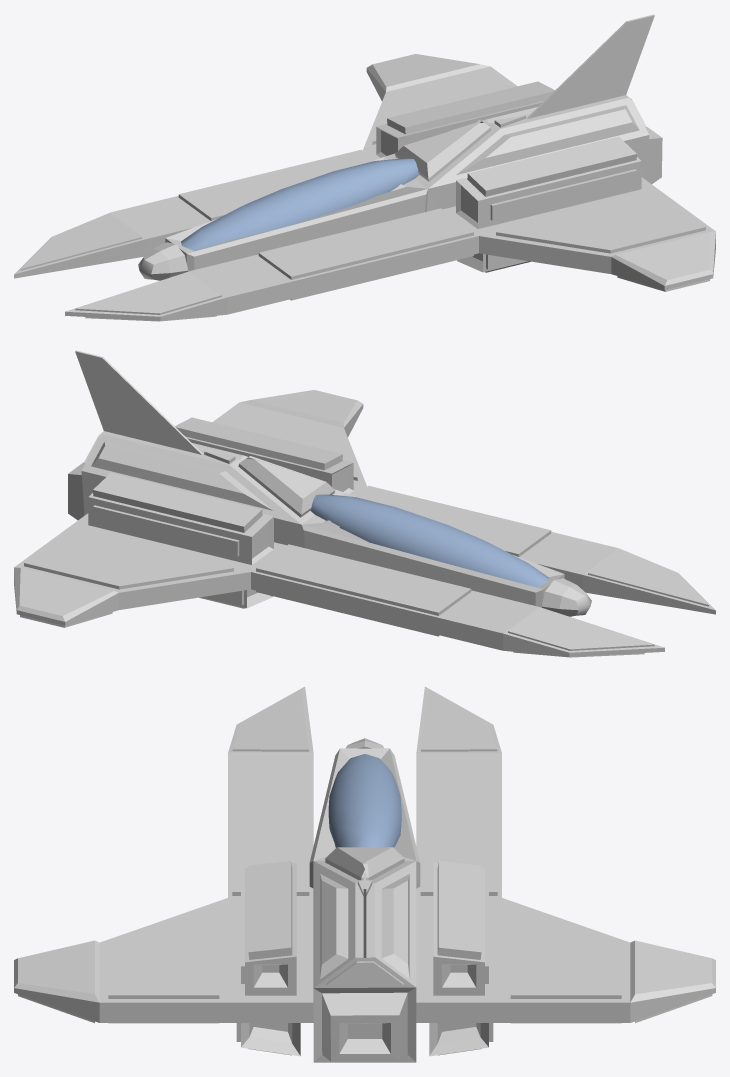
File: vicViper02.FBX
The picture shows the model from 3 angles, top to bottom: view 1: azimuth 30°, elevation 25°; view 2: azimuth 150°, elevation 25°; view 3: azimuth 270°, elevation 25°; orthographic projection. The views are drawn at different scales.
Parts seen in each view (by area): view 1: Box01, Sphere01; view 2: Box01, Sphere01; view 3: Box01, Sphere01.
Boxes of the visible parts, x1,y1,x2,y2 form: Box01: (14, 14, 715, 321); Sphere01: (181, 158, 419, 250); Box01: (14, 350, 715, 657); Sphere01: (310, 494, 548, 586); Box01: (14, 686, 715, 1062); Sphere01: (328, 754, 401, 847).
Bounding box in the file's own units: 97.68 × 26.41 × 82.
